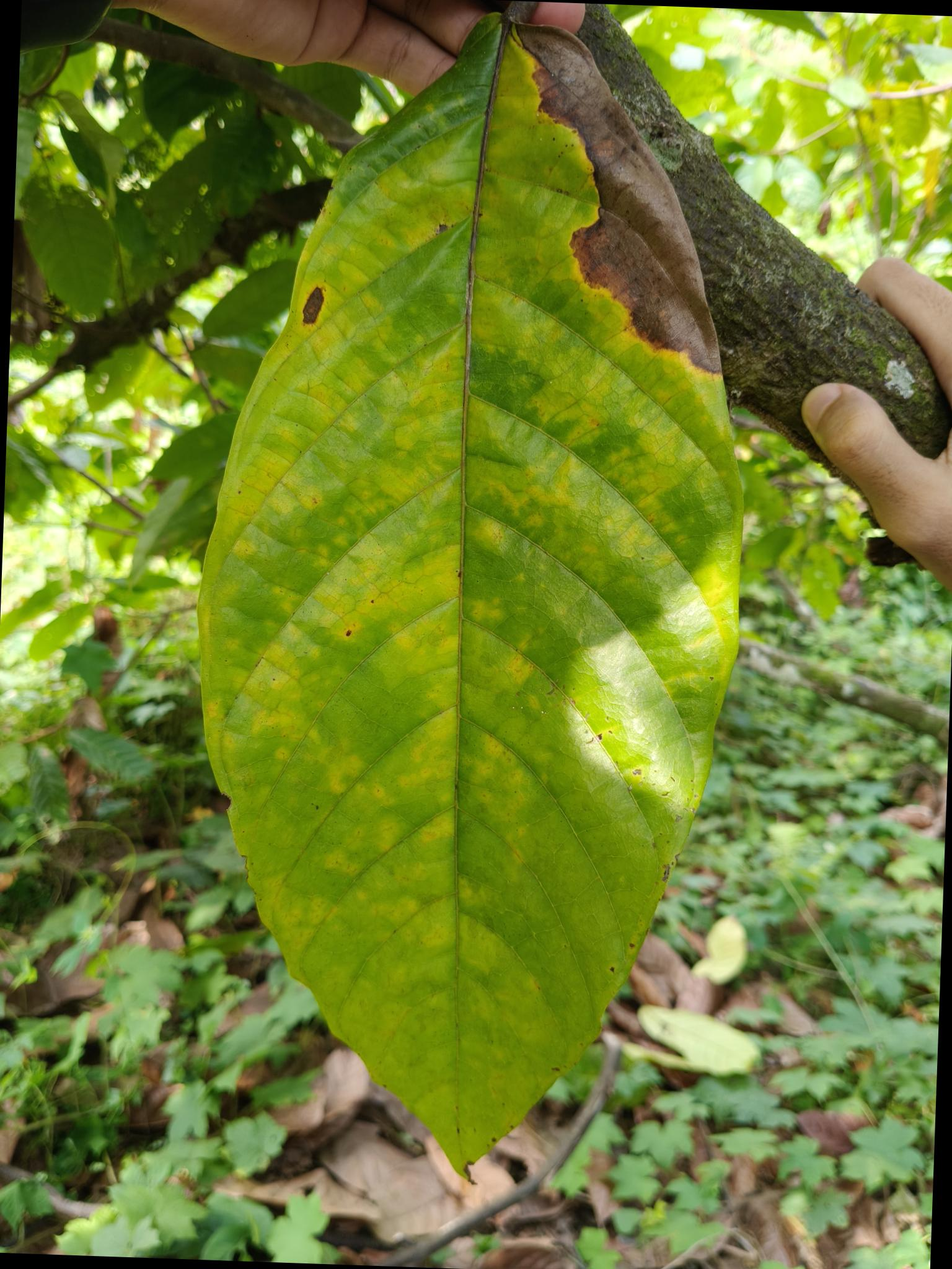Fosforo: (185, 1, 751, 1193)
